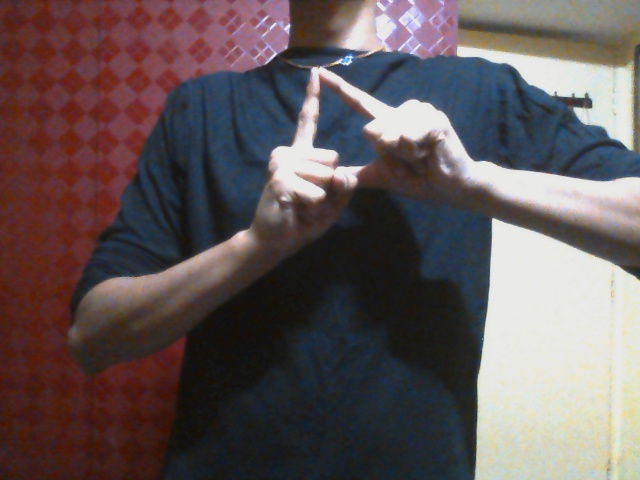D: (252, 64, 470, 263)
